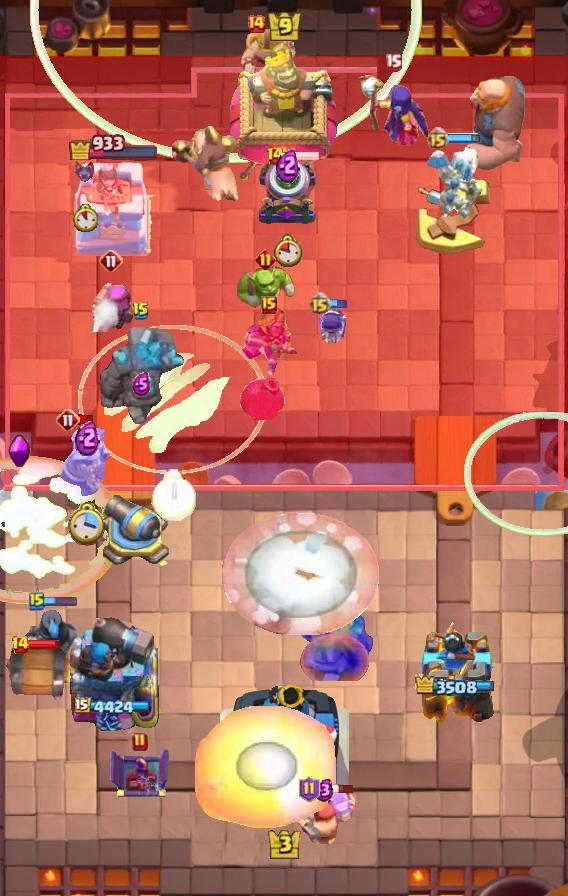axe: (355, 73, 431, 147)
baby-dragon: (239, 375, 285, 420)
balloon: (460, 71, 528, 173)
barbarian-barrel: (73, 158, 97, 186)
cannoneer-tower: (96, 326, 186, 428), (287, 591, 377, 681)
electro-spirit: (76, 418, 101, 456), (276, 146, 300, 183), (132, 372, 152, 396), (314, 778, 334, 802)
elixir: (152, 469, 196, 521), (68, 503, 106, 547), (273, 234, 302, 266), (73, 204, 98, 232)
elixir-collector: (59, 425, 115, 499)
emote: (283, 150, 320, 162), (317, 783, 354, 795), (42, 595, 78, 607), (27, 638, 61, 650), (446, 133, 481, 144), (328, 299, 347, 310), (77, 414, 94, 426)
flying-machine: (234, 261, 296, 321)
freeze: (171, 126, 241, 206)
goblin: (319, 309, 349, 349)
goblin-cage: (256, 157, 320, 227)
goblin-giant: (239, 27, 301, 79)
ice-spirit-evolution-symbol: (108, 746, 172, 800)
ice-wizard: (78, 326, 268, 475)
inferno-dragon: (22, 605, 78, 681)
king-tower: (219, 678, 349, 826), (230, 43, 338, 181)
mighty-miner: (290, 788, 358, 850)
mini-pekka: (423, 143, 487, 225)
phoenix-big: (0, 455, 124, 606)
queen-tower: (411, 619, 495, 731), (69, 158, 159, 256)
royal-recruit: (100, 489, 172, 573)
selected: (68, 131, 160, 160), (414, 674, 495, 698), (74, 697, 154, 717)
skeleton-king-skill: (7, 434, 31, 470)
tesla-evolution: (240, 304, 298, 378)
text: (99, 249, 123, 273), (56, 408, 80, 432), (427, 126, 450, 150), (300, 776, 321, 802), (308, 293, 331, 316), (256, 250, 277, 271), (246, 14, 266, 34), (266, 146, 285, 166), (10, 635, 29, 655), (132, 301, 150, 321), (385, 52, 403, 71), (29, 591, 45, 611), (132, 732, 148, 752), (261, 296, 277, 314)
the-log: (0, 643, 80, 703)
tombstone: (86, 276, 136, 332)
tower-bar: (68, 611, 160, 731)
valkyrie: (188, 706, 344, 828)
wall-breaker: (222, 513, 380, 635)
